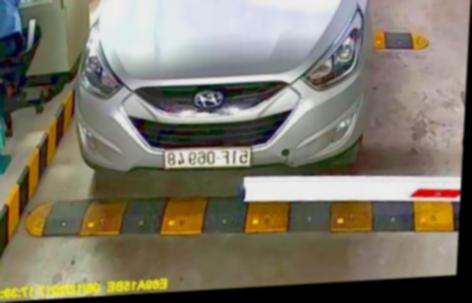License_Plate: (164, 142, 253, 177)
